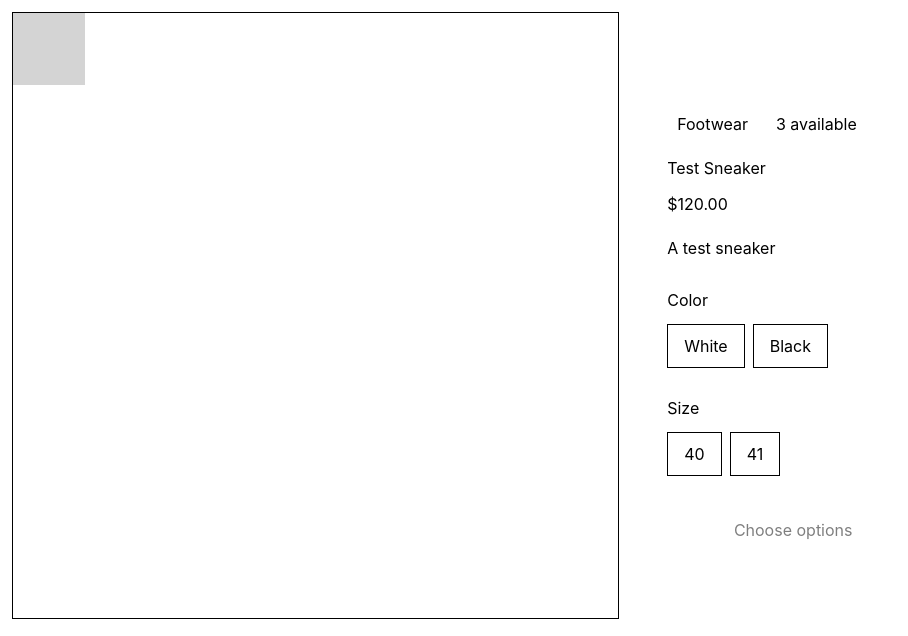
it: ProductDetail › requires a valid variant before adding to cart
The image size is (908, 636).
Expected: the button "Choose options" is disabled, [667, 508, 891, 552]
What coordinates should you click on to do the following:
click the button "White"
I would click on:
 (706, 346)
Its box is [667, 324, 745, 368].
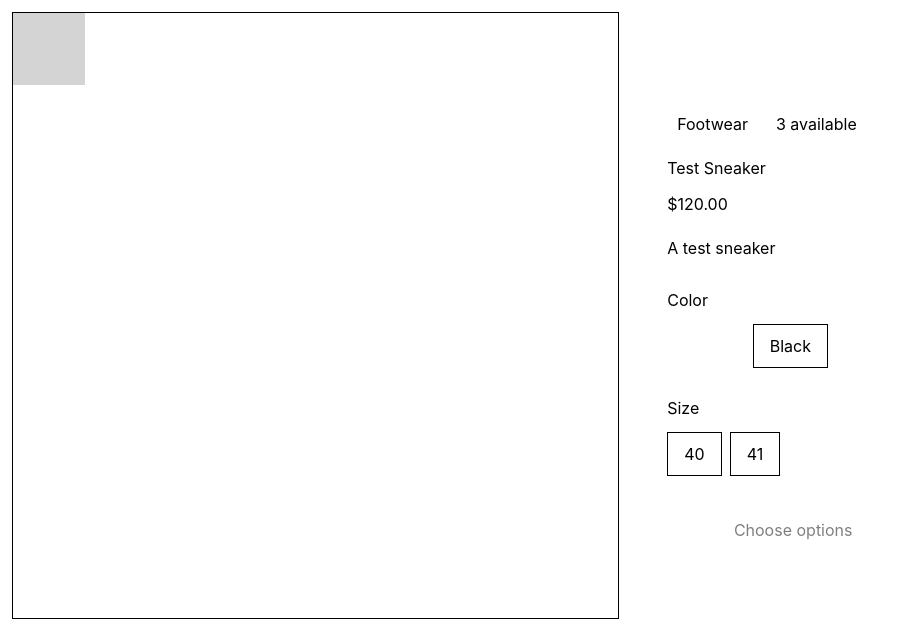
Expected: the button "41" is disabled, [730, 432, 780, 476]
What coordinates should you click on to do the following:
click the button "40"
I would click on:
 (694, 454)
Its box is [667, 432, 722, 476].
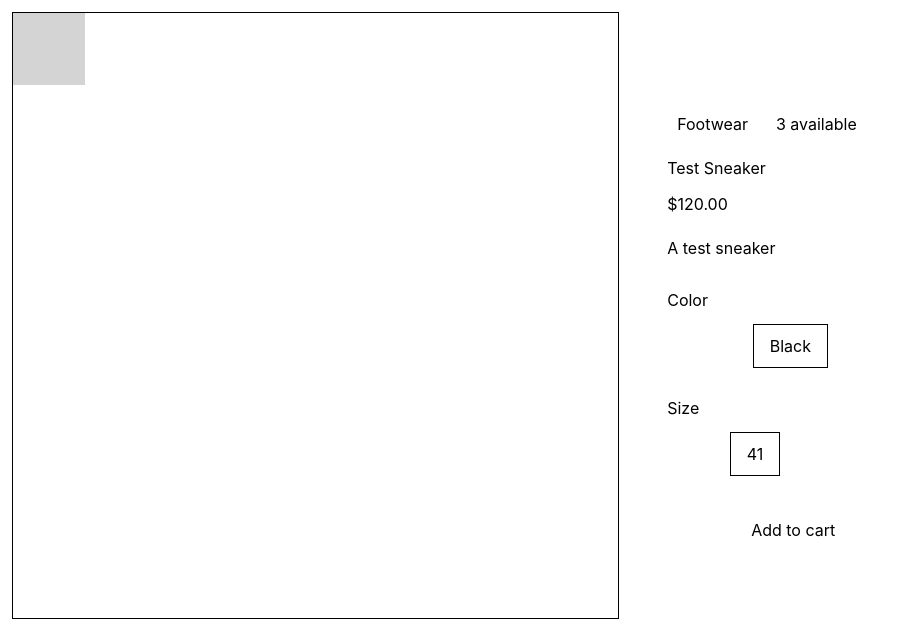
What coordinates should you click on to do the following:
click the button "Add to cart"
I would click on:
 (779, 530)
Its box is [667, 508, 891, 552].
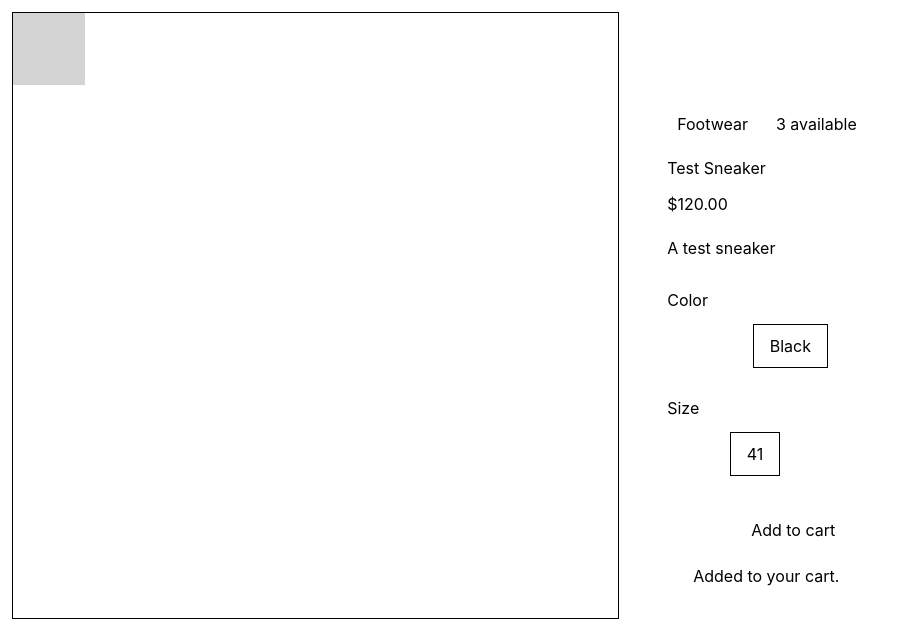
Now the message shows "Added to your cart", box [693, 566, 839, 586]
